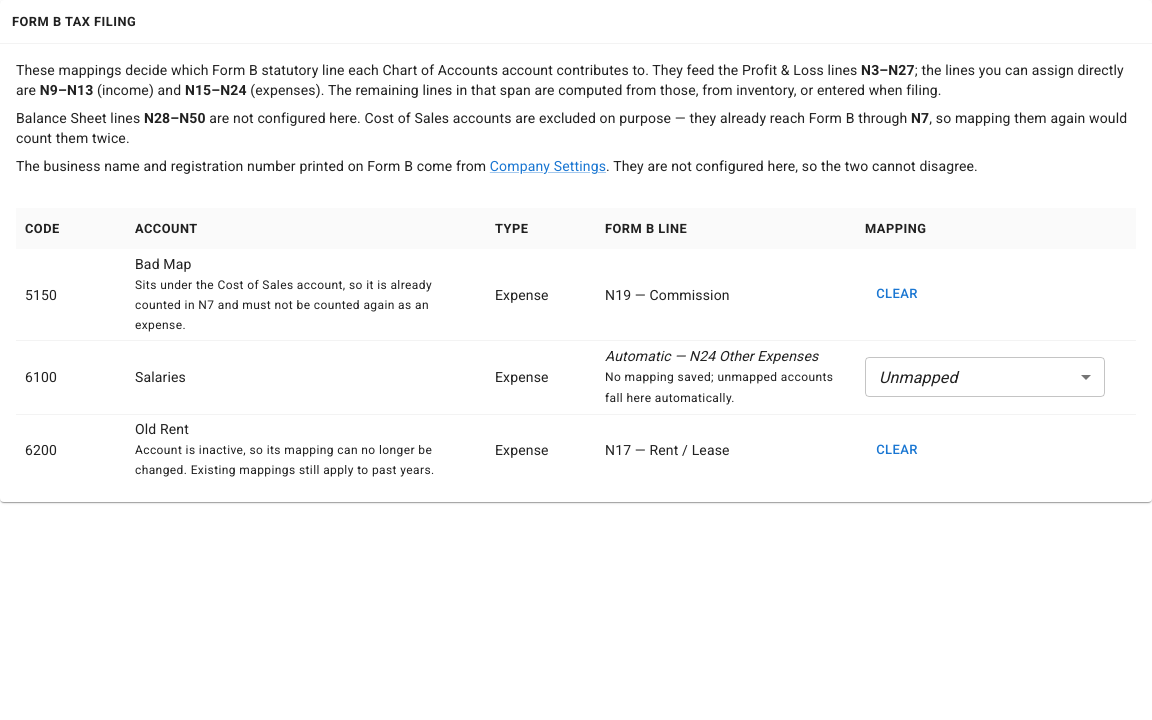
Test case: FormBMappingSection — staged drafts › stages a change with no row-level decoration
Click the dropdown at (918, 377), box [879,368,958,387]
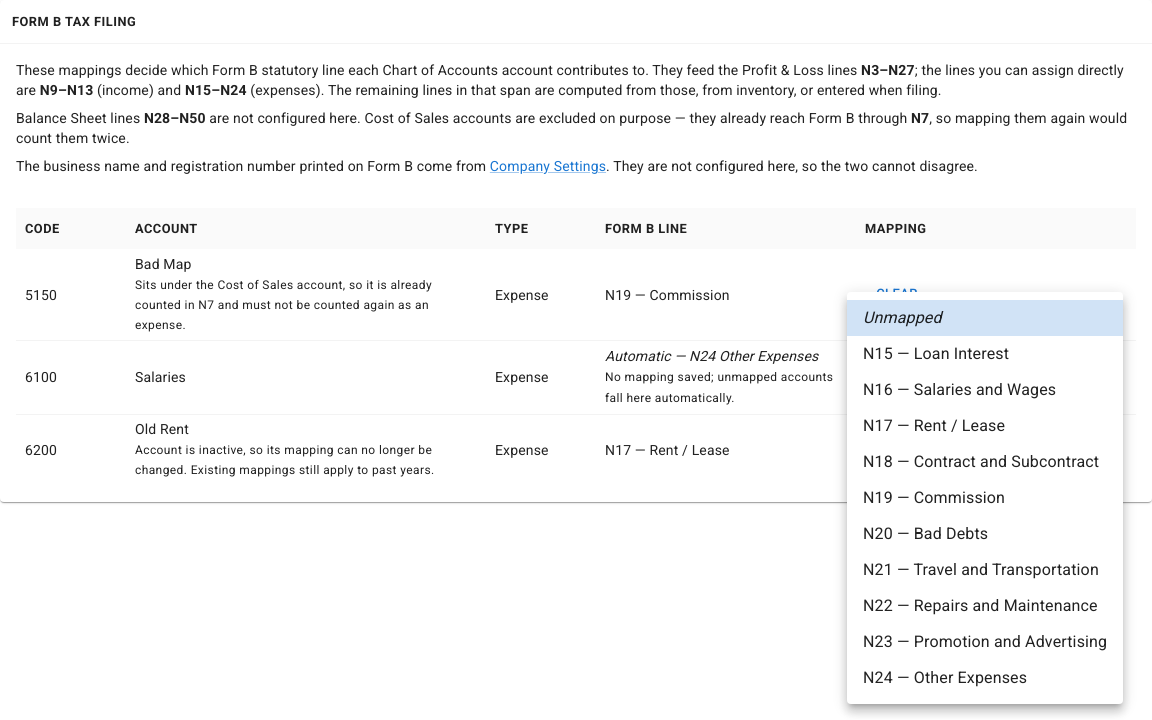
Click the option "N16 — Salaries and Wages" at (960, 390), box [863,380,1056,399]
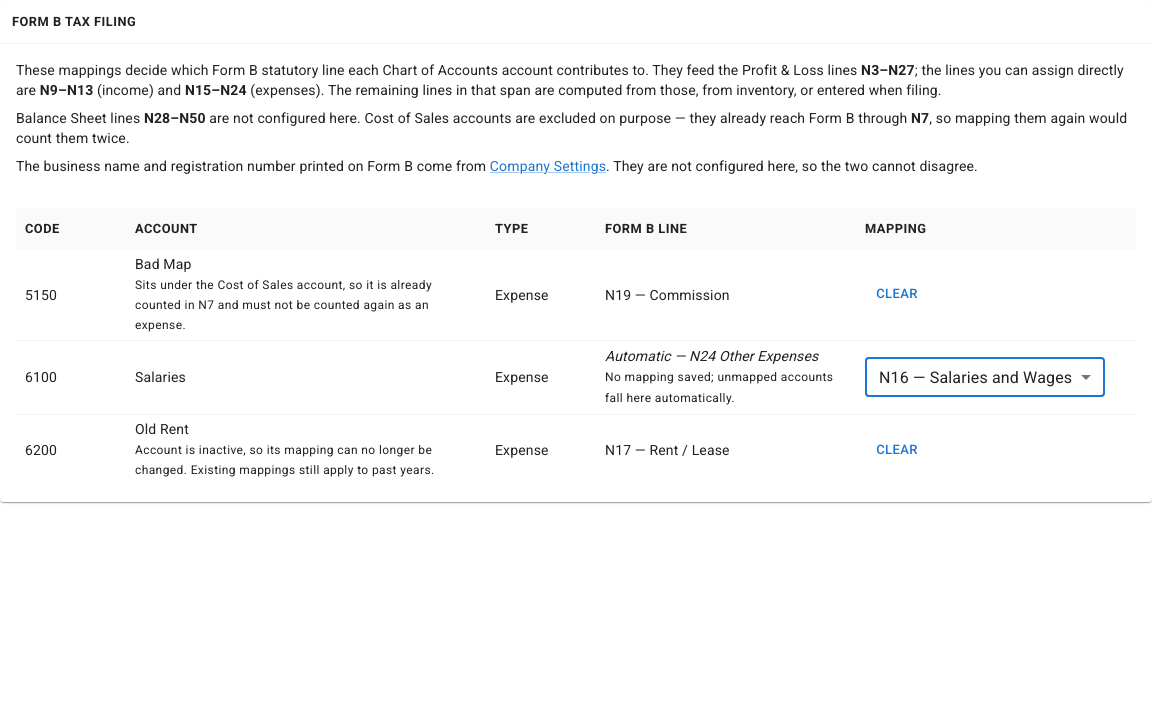
Check: the element with test id "formb-map-line-a1" shows "Automatic", box [605,348,689,364]
Check: the element with test id "formb-map-select-a1" shows "N16 — Salaries", box [865,357,1105,397]
